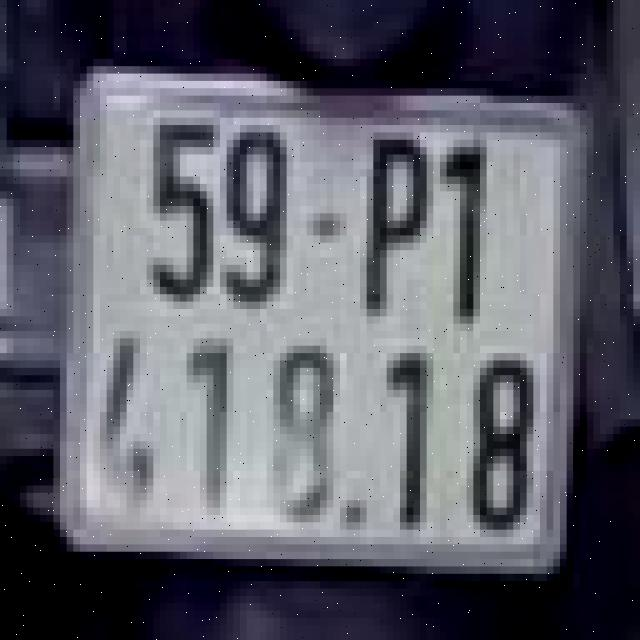1: (433, 125, 500, 331), (373, 338, 440, 537), (180, 327, 240, 519)
4: (87, 328, 160, 534)
5: (140, 114, 220, 313)
8: (470, 346, 543, 544), (267, 335, 340, 526)
9: (213, 114, 300, 320)
P: (347, 129, 433, 327)
